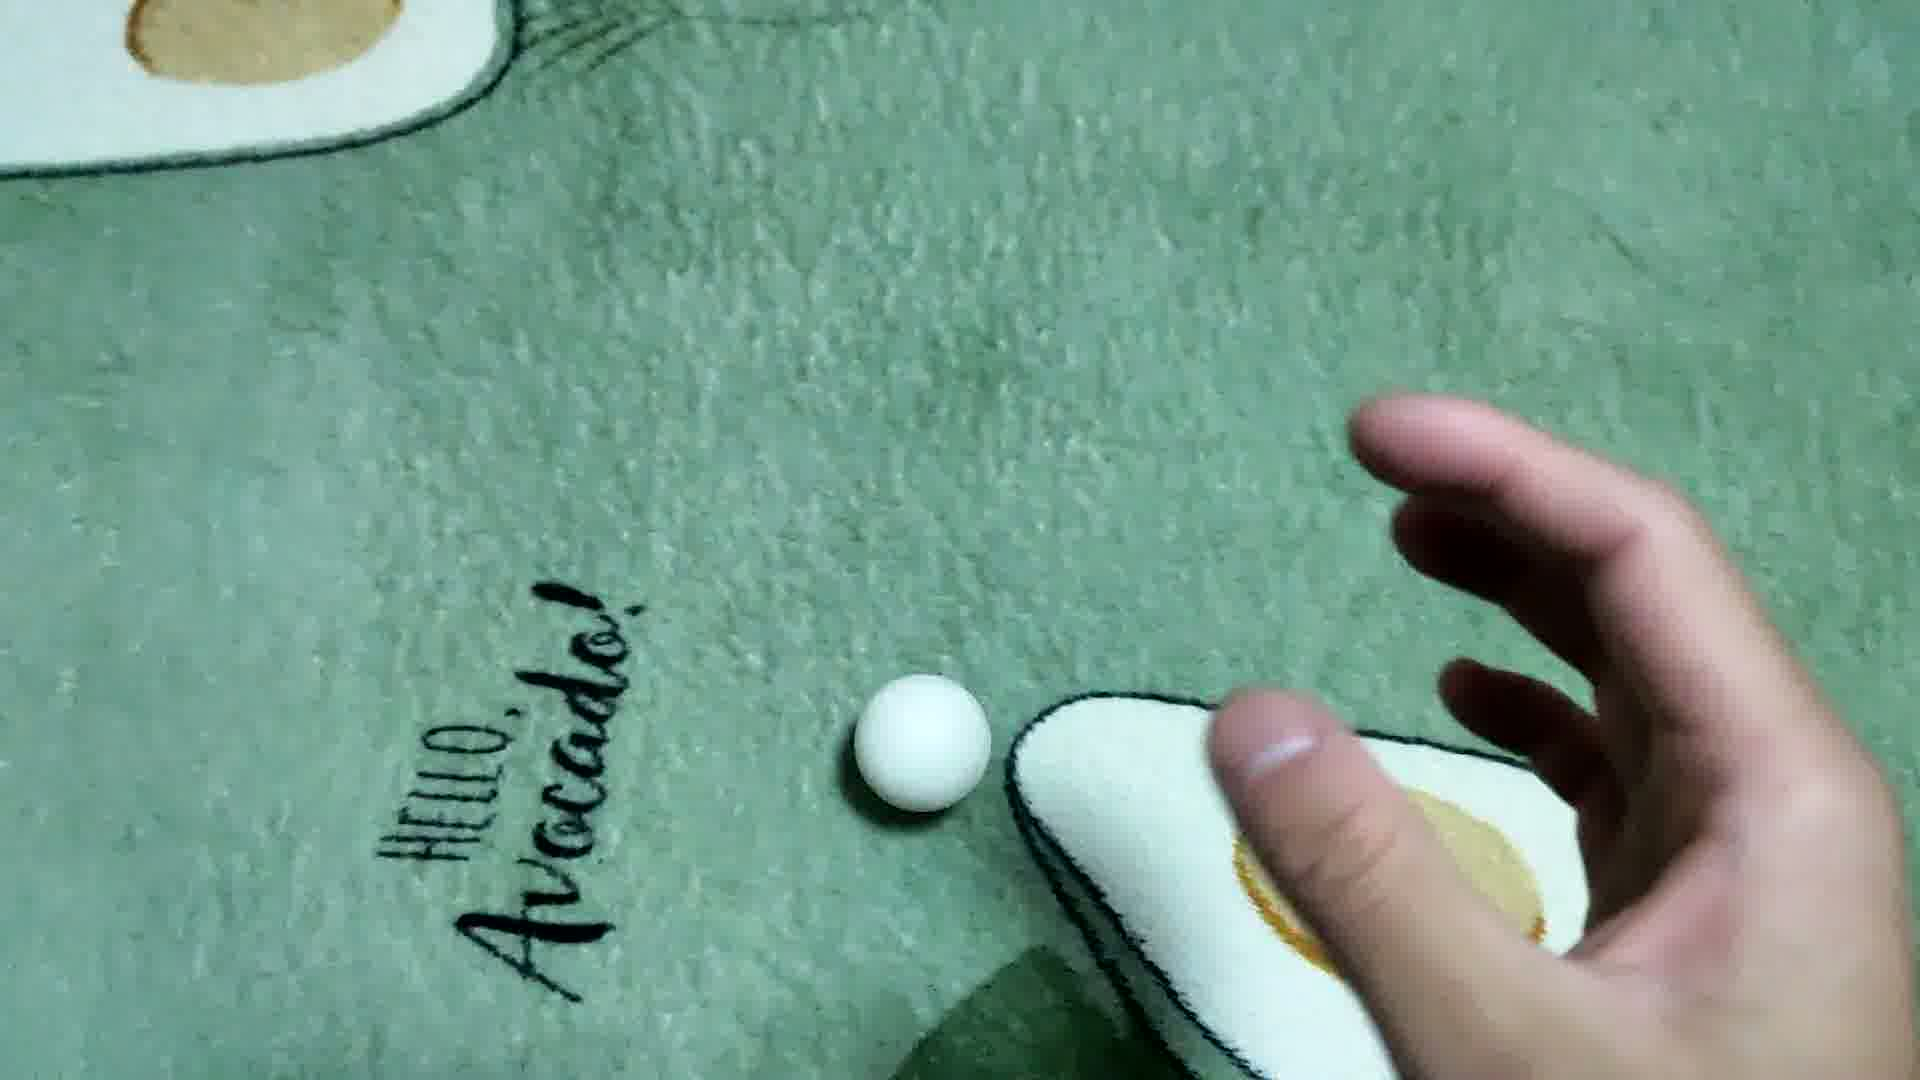Ball: (855, 674, 992, 811)
